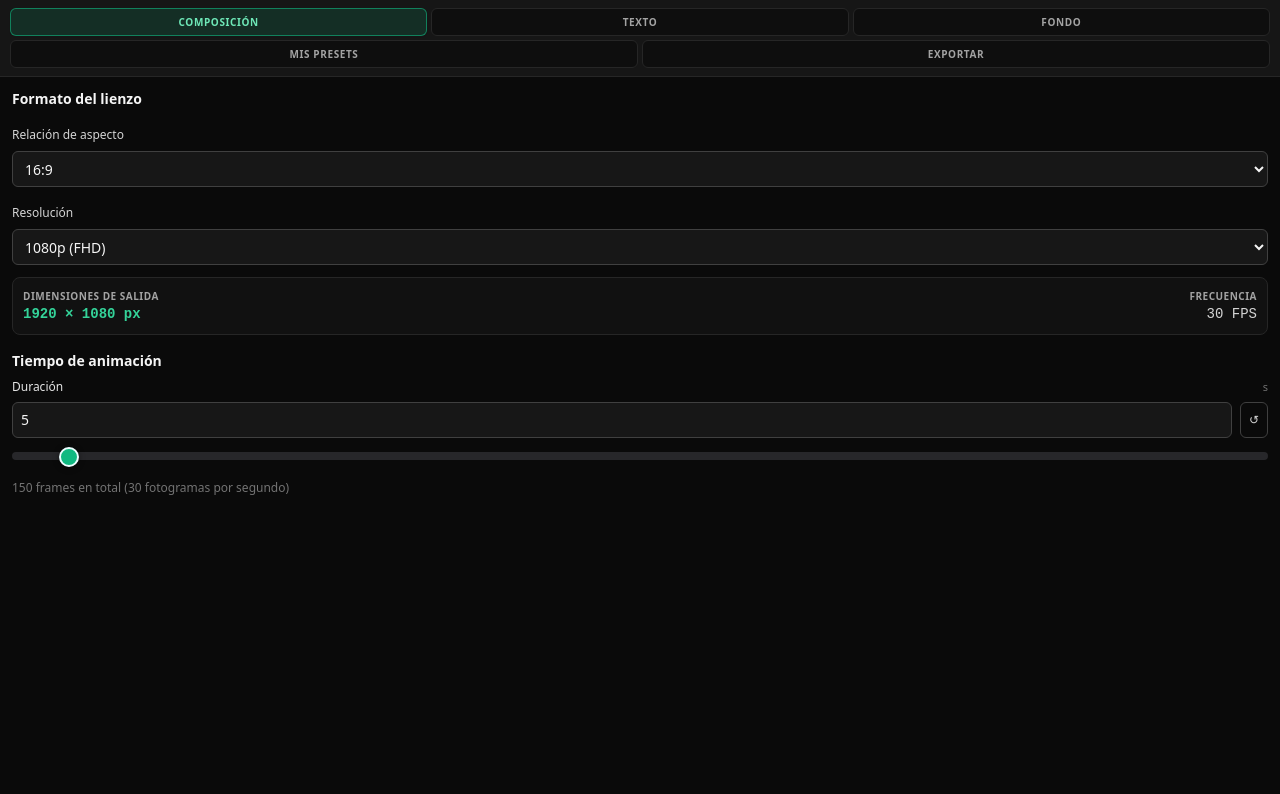
Test: InspectorPanel tabs › propaga al resultado visible el nombre final elegido por el writer tras una colisión
Click the tab "Exportar": [956, 54] box [642, 40, 1270, 68]
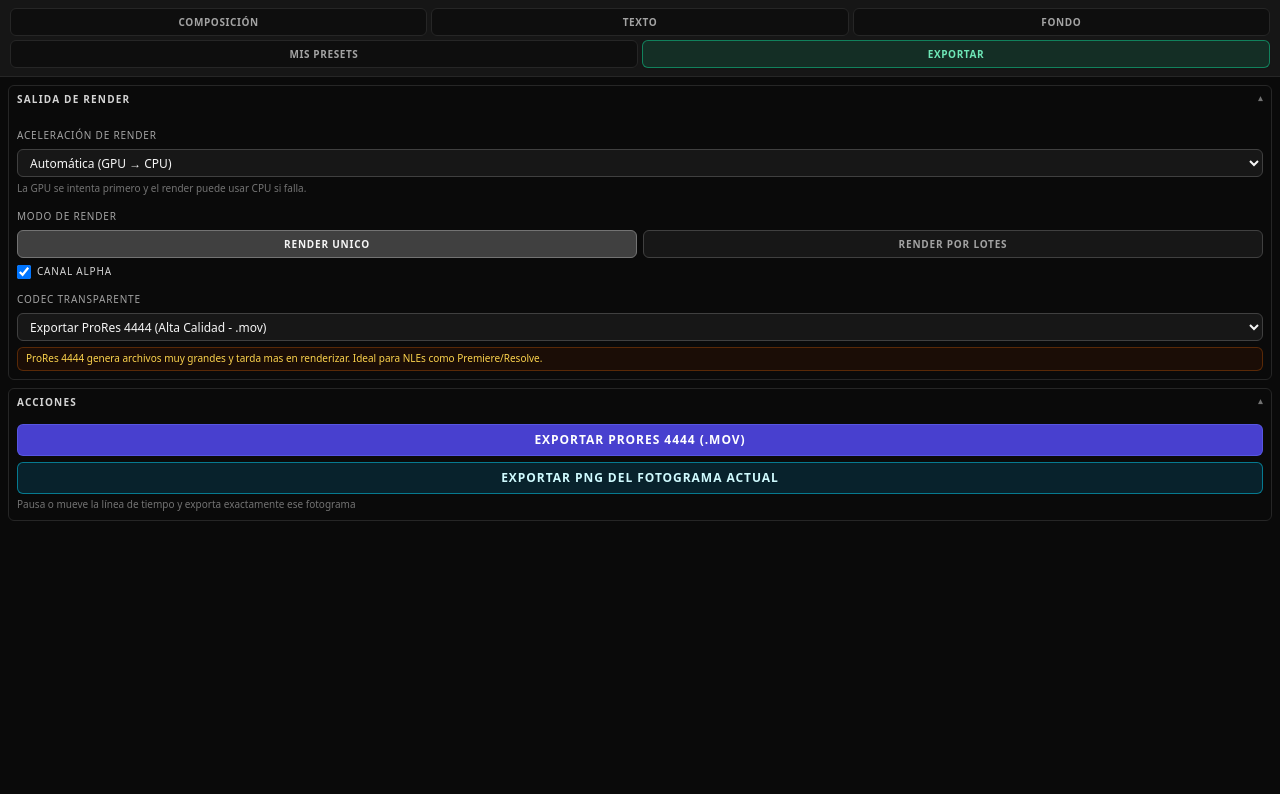
Click the button "Render por Lotes": [953, 244] box [643, 230, 1263, 258]
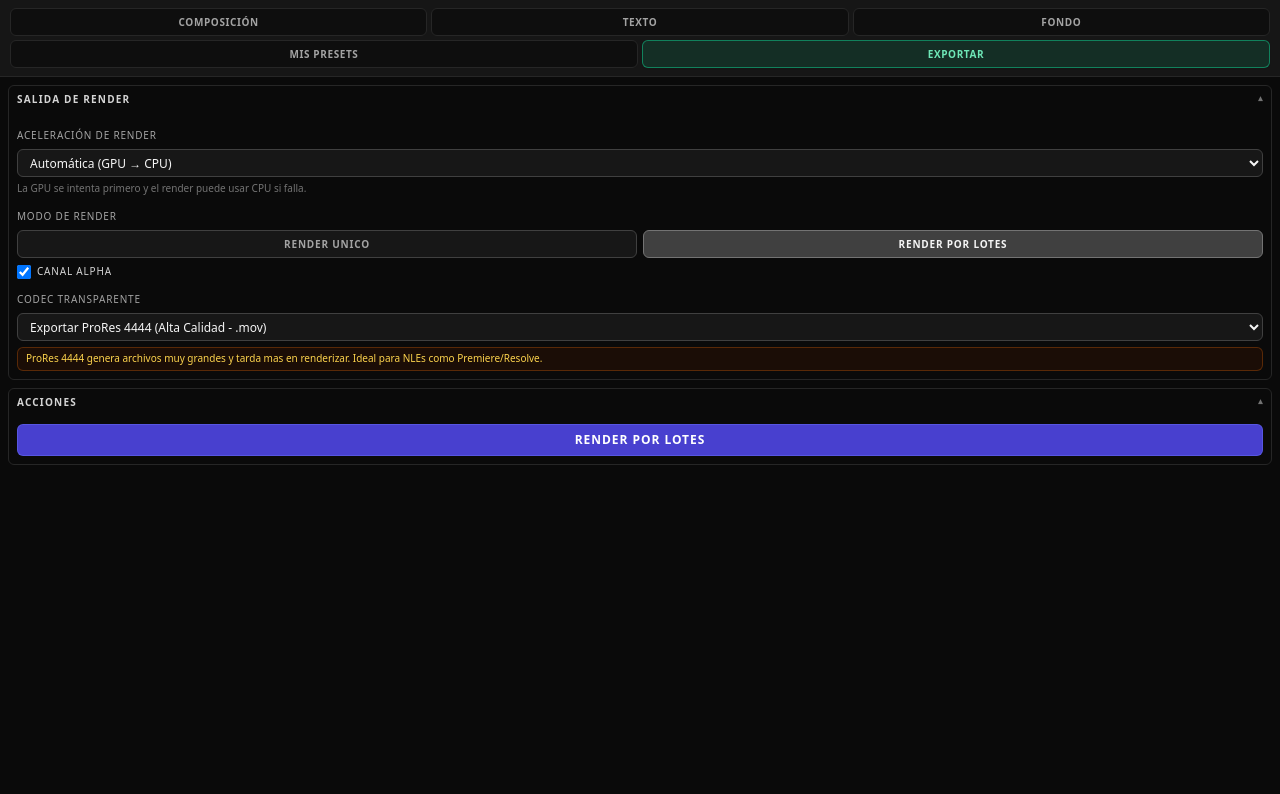
Click the tab "Texto": [640, 22] box [431, 8, 849, 36]
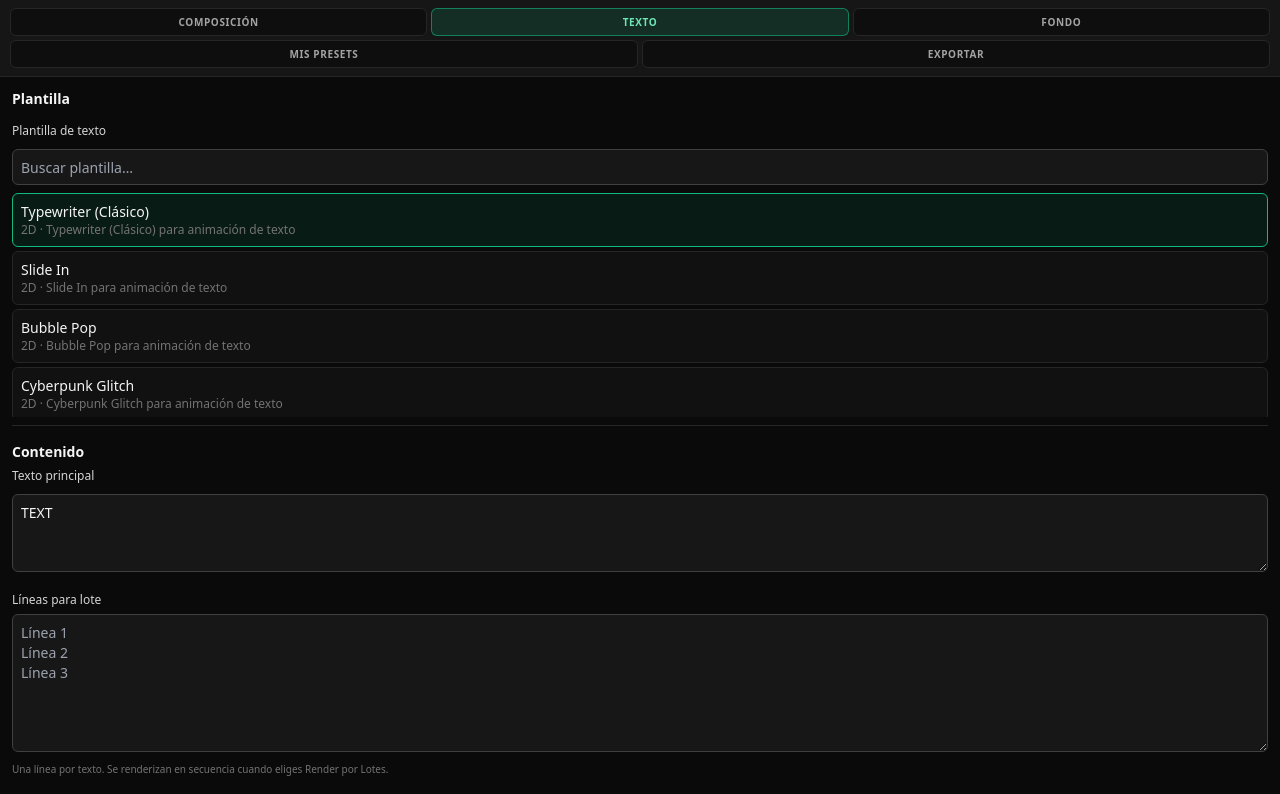
In the text box labelled "Líneas para lote": [640, 683] box [12, 614, 1268, 752], type "A"
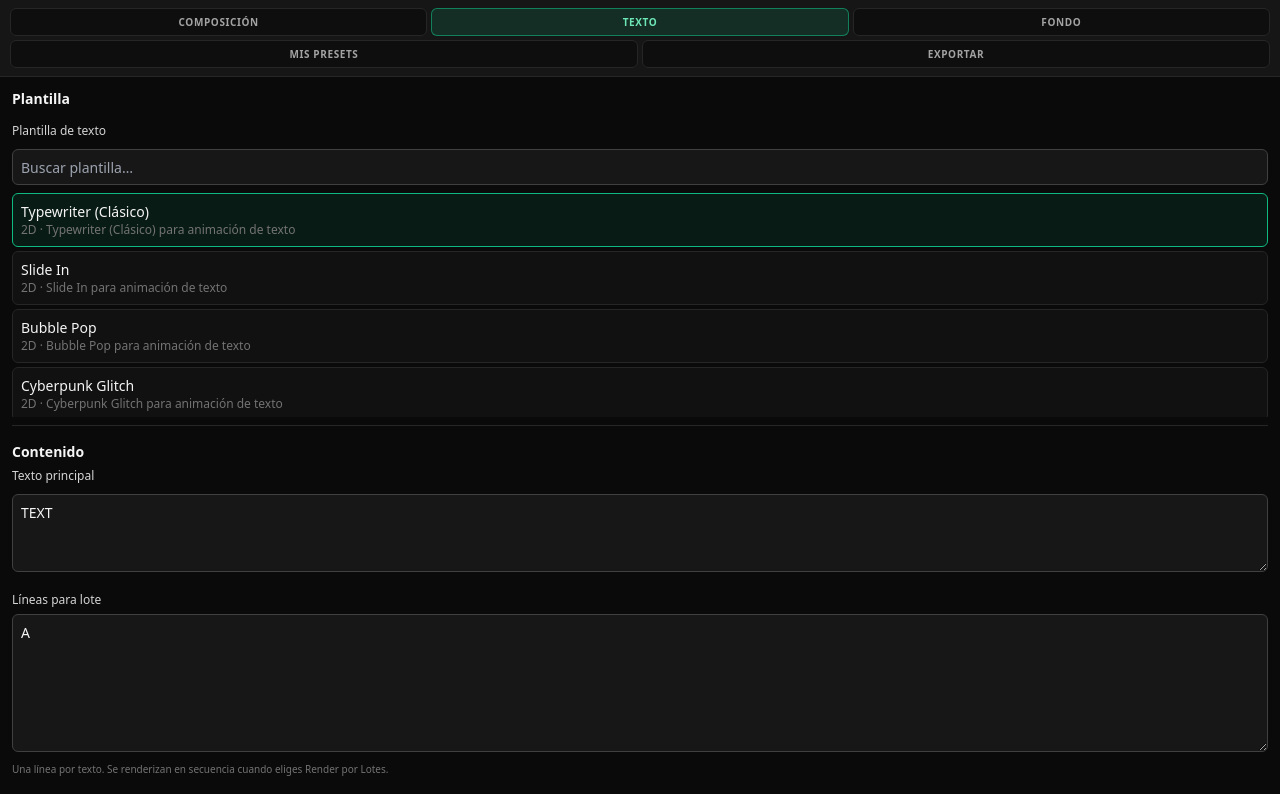
Click the tab "Exportar": [956, 54] box [642, 40, 1270, 68]
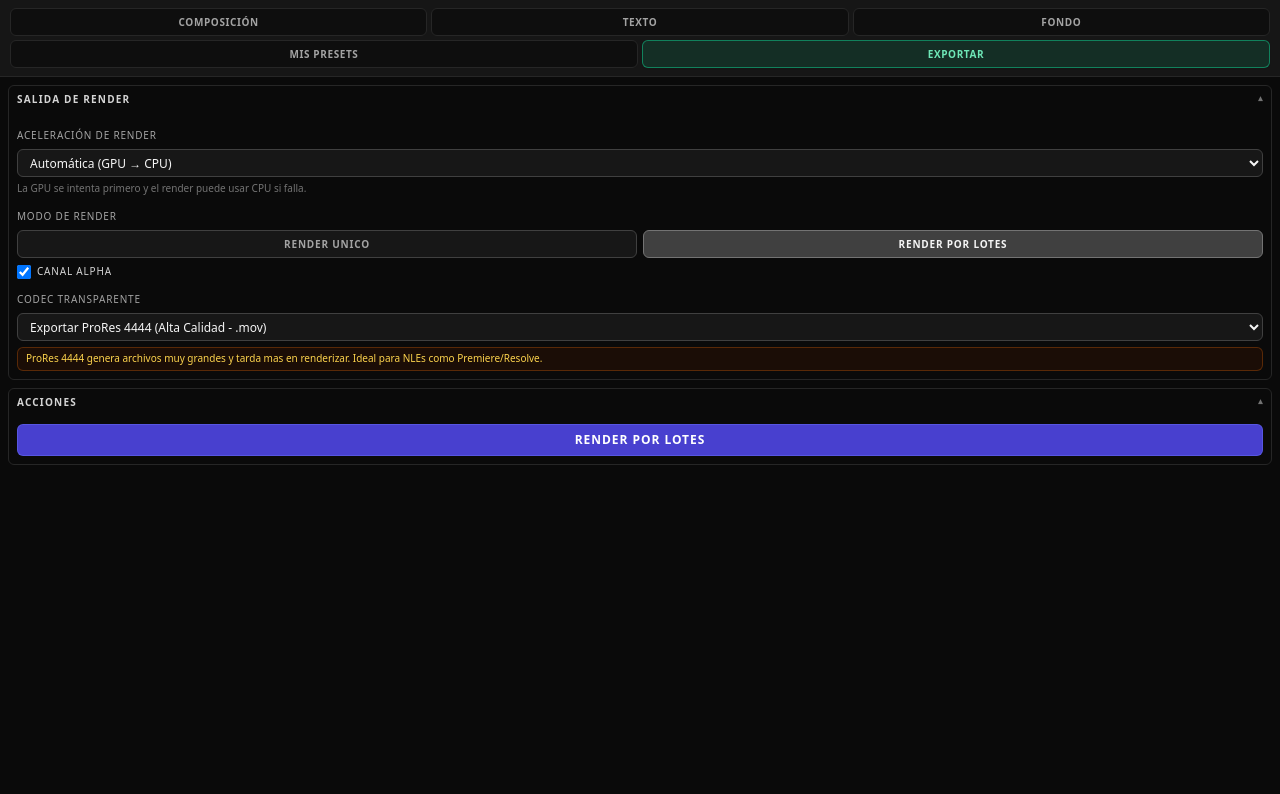
Click the 2nd button "Render por Lotes": [640, 440] box [17, 424, 1263, 456]
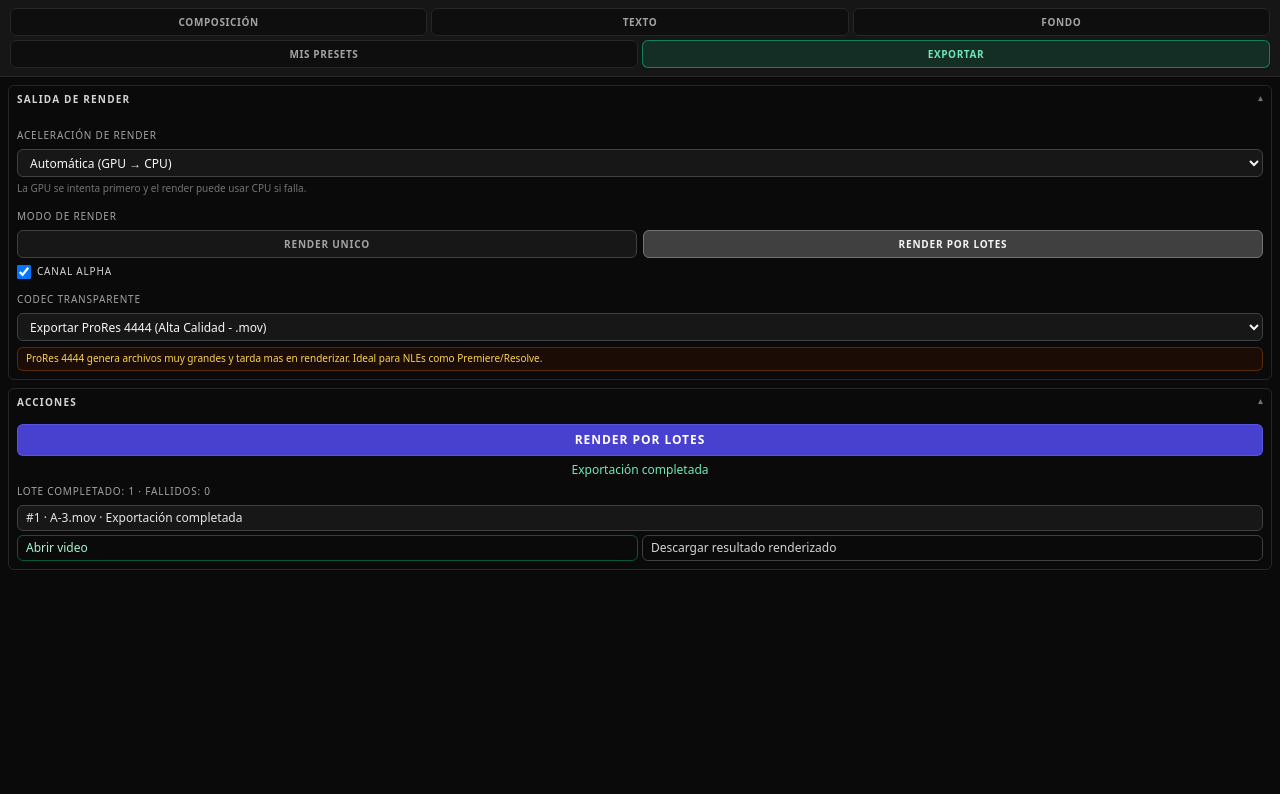
Expected: the text "#1 · A-3.mov · Exportación completada" is shown, [17, 505, 1263, 531]
